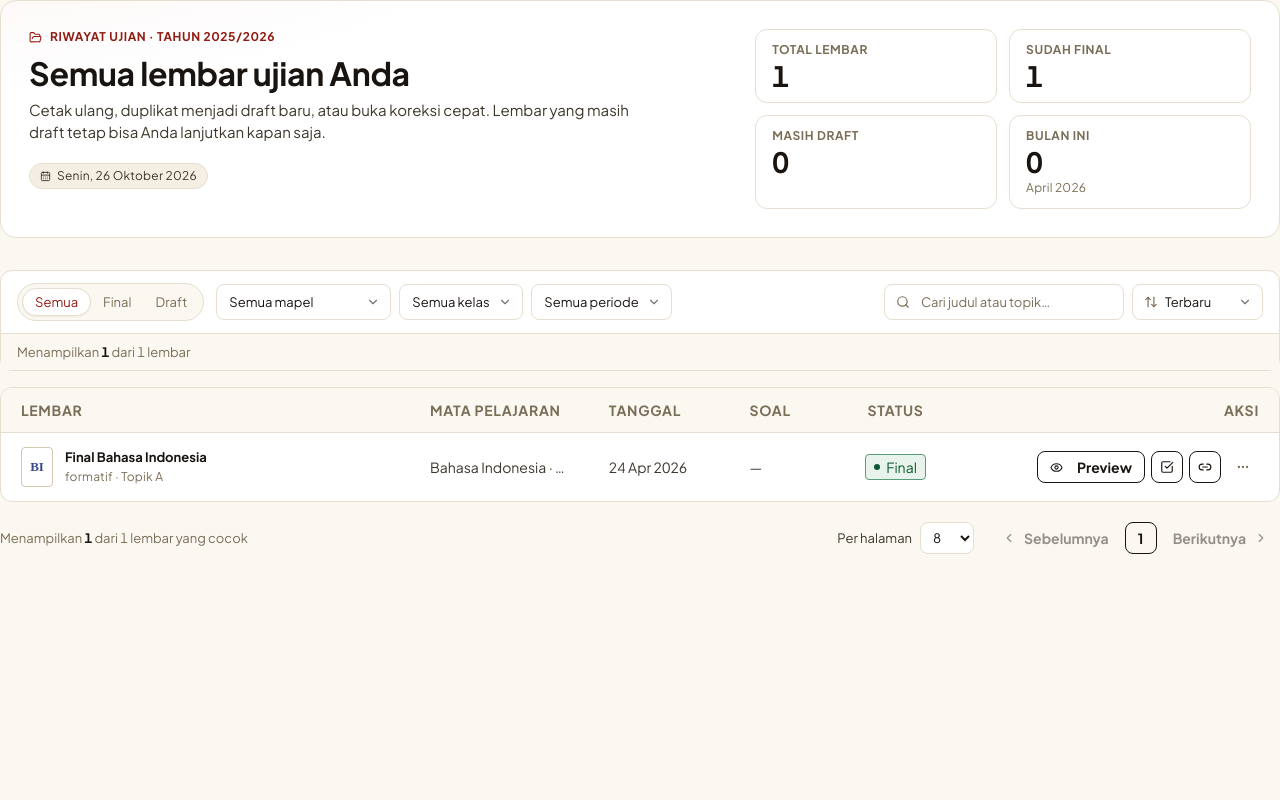
Test case: HistoryPage › final exam title opens preview modal
Click the button "Final Bahasa Indonesia" at (136, 458), box top-left (65, 449), bottom-right (207, 467)
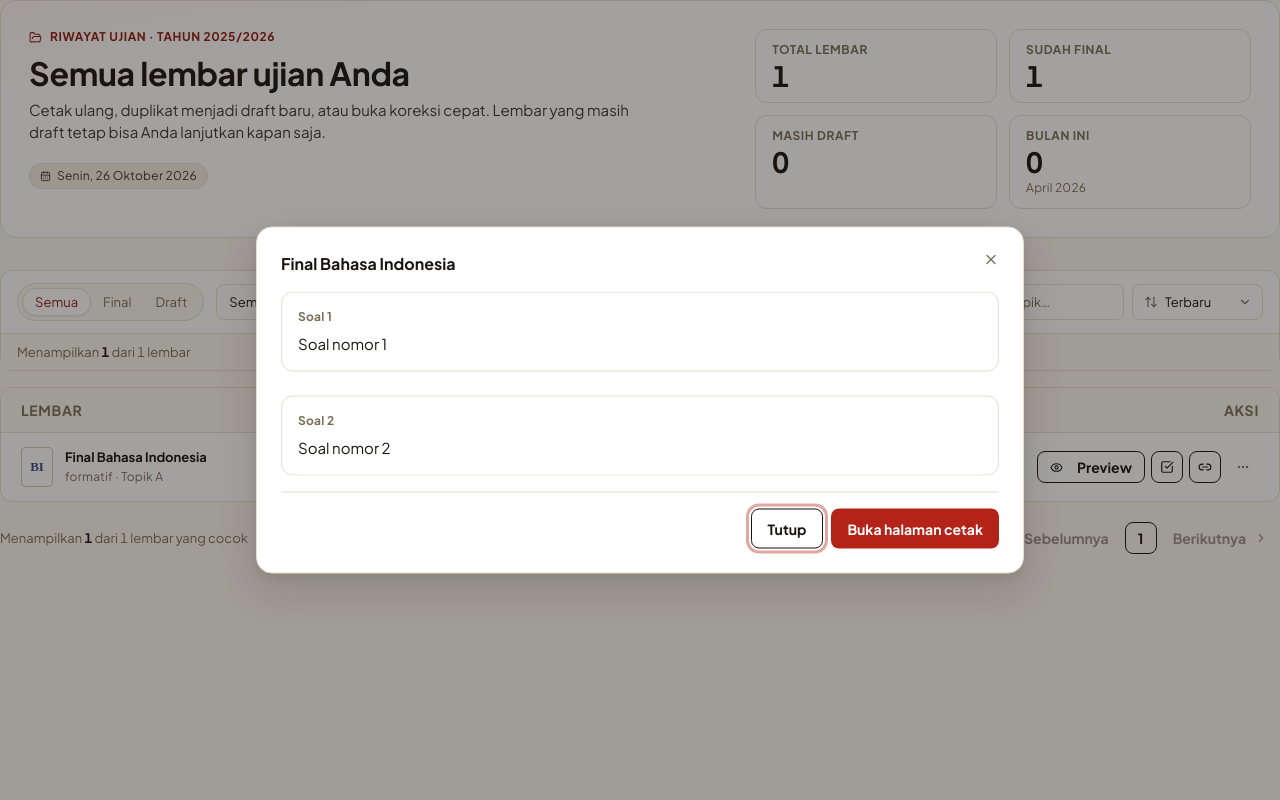
Expected: the text "Soal 1" is shown, top-left (298, 308), bottom-right (332, 324)
